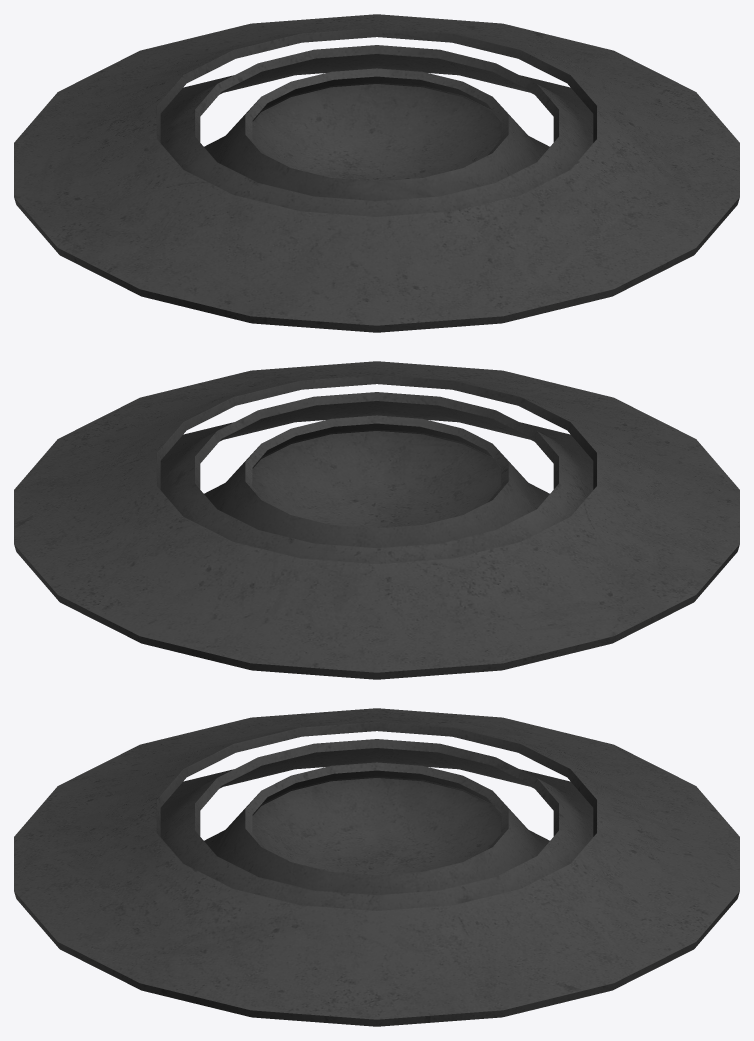
The model's file is CeilingAirVent.FBX.
3 renders of one model, top to bottom at view 1: azimuth 30°, elevation 25°; view 2: azimuth 150°, elevation 25°; view 3: azimuth 270°, elevation 25°, orthographic.
Visible parts, largest first — view 1: CeilingAirVent; view 2: CeilingAirVent; view 3: CeilingAirVent.
Boxes of the visible parts, bbox=[...] form: CeilingAirVent: bbox=[14, 14, 739, 332]; CeilingAirVent: bbox=[14, 361, 739, 679]; CeilingAirVent: bbox=[14, 708, 739, 1026].
Size of the model in its own units: 80.51 by 10.12 by 79.28.
